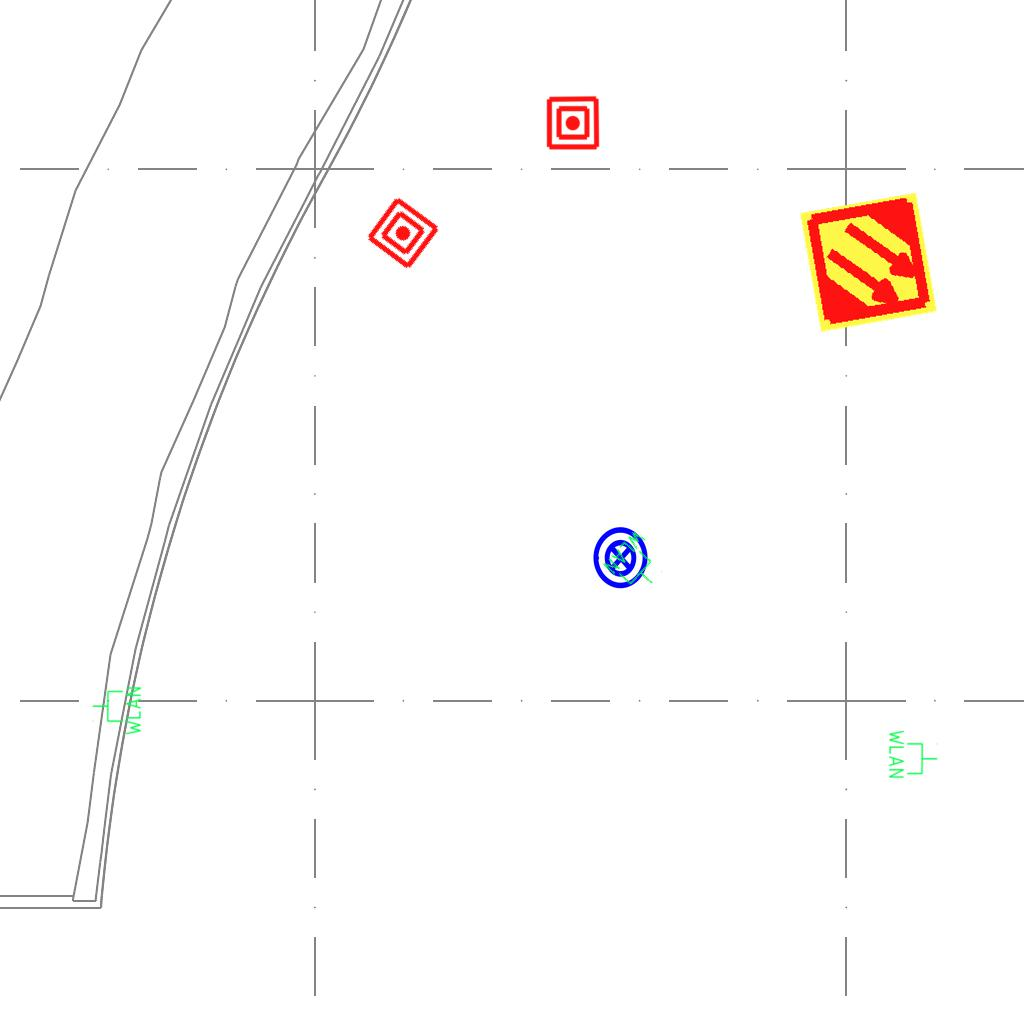ASR_Ansaugrauchmelder: (796, 190, 941, 335)
NAM-Nichtautomatischer_Melder: (363, 193, 443, 273), (545, 95, 601, 151)
Taster_beleuchtet: (588, 525, 654, 591)
WLAN: (600, 526, 674, 600), (887, 728, 939, 780), (91, 685, 143, 737)
